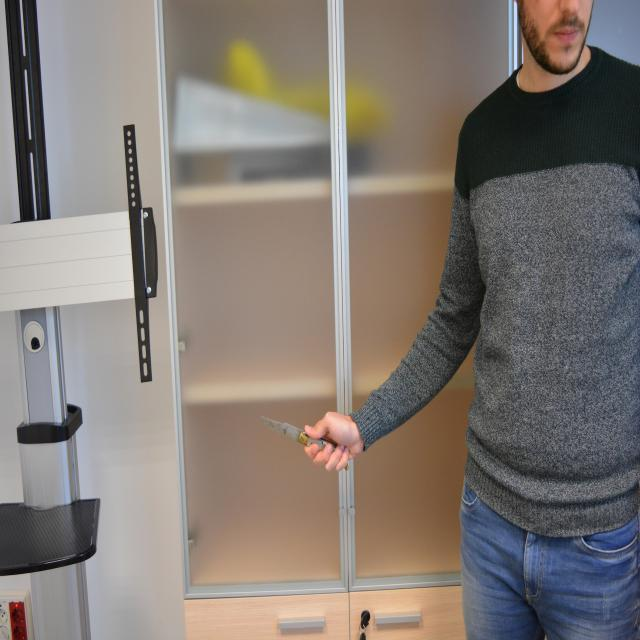knife: (255, 413, 313, 448)
